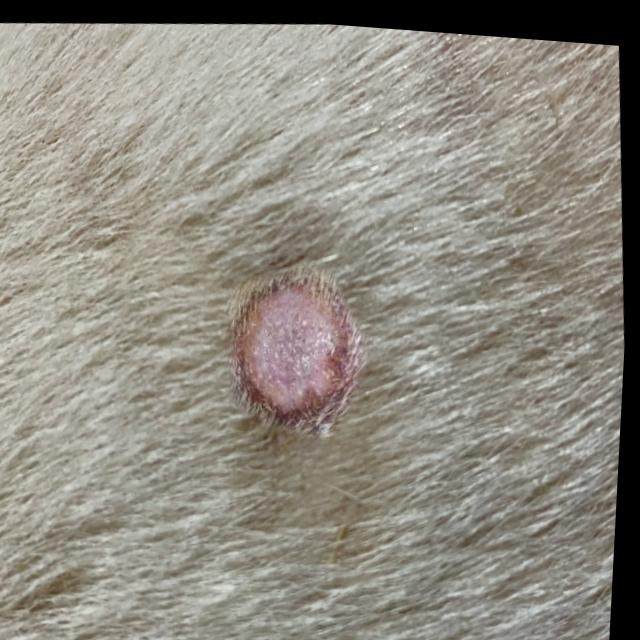ringworm: (230, 250, 374, 438)
